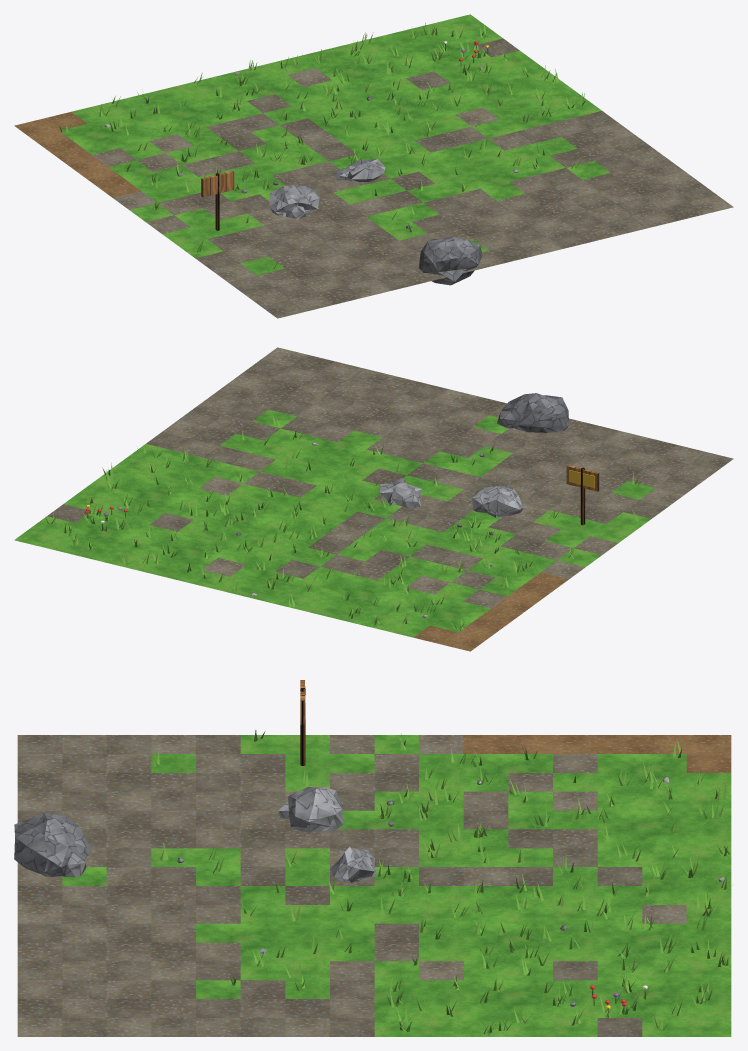
File: chunk_6_16.glb
The picture shows the model from 3 angles, top to bottom: view 1: azimuth 30°, elevation 25°; view 2: azimuth 150°, elevation 25°; view 3: azimuth 270°, elevation 25°; orthographic projection. The views are drawn at different scales.
Visible parts, largest first — view 1: chunk_6_16; view 2: chunk_6_16; view 3: chunk_6_16.
Boxes of the visible parts, <box> form: chunk_6_16: <box>14,14,733,318</box>; chunk_6_16: <box>14,347,733,651</box>; chunk_6_16: <box>14,680,731,1036</box>.
Bounding box in the file's own units: 16 × 2.54 × 16.14.
Materials: 16 (10 with a texture image).
